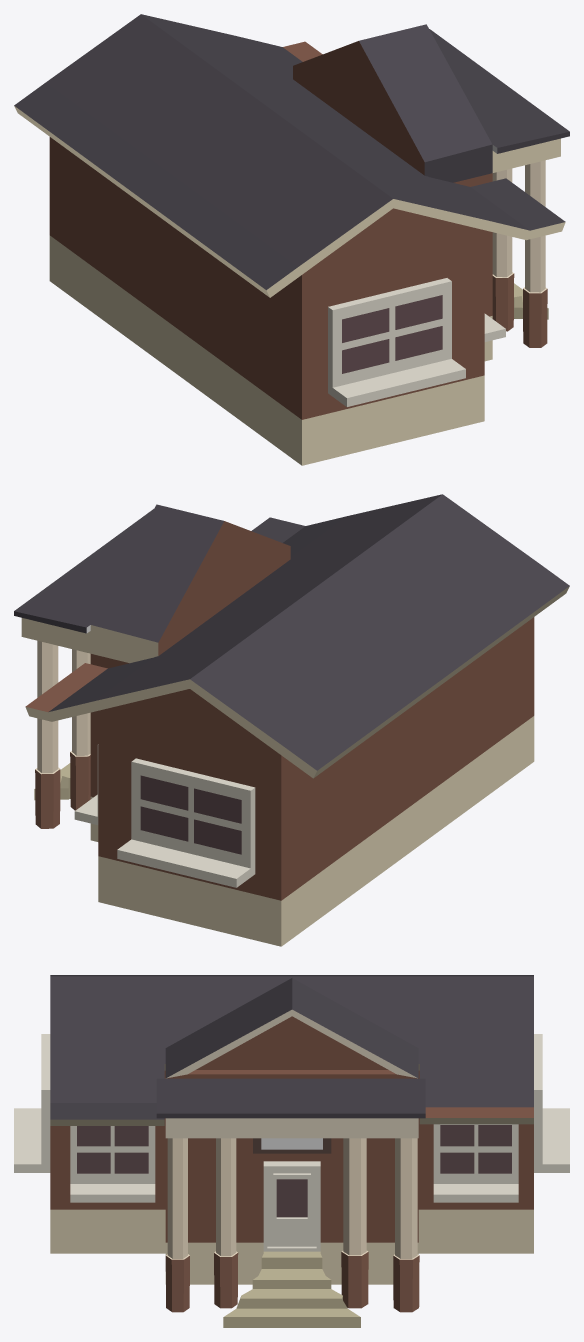
Rendered from library.glb.
3 renders of one model, top to bottom at view 1: azimuth 30°, elevation 25°; view 2: azimuth 150°, elevation 25°; view 3: azimuth 270°, elevation 25°, orthographic. The views are drawn at different scales.
Visible parts, largest first — view 1: Cube.004; view 2: Cube.004; view 3: Cube.004.
Part boxes in pixels (x1=…): Cube.004: x1=14, y1=14, x2=569, y2=465; Cube.004: x1=14, y1=494, x2=569, y2=946; Cube.004: x1=14, y1=975, x2=569, y2=1327.
Size of the model in its own units: 19.01 by 14.15 by 25.63.
